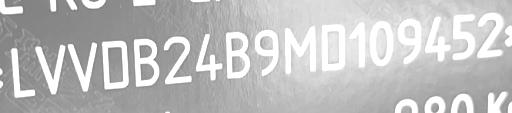letter: (281, 22, 321, 75), (36, 39, 68, 98), (66, 37, 100, 92), (100, 37, 132, 92), (318, 20, 350, 73), (162, 31, 194, 84), (222, 28, 252, 83), (132, 33, 162, 88), (6, 45, 36, 100), (474, 10, 506, 61), (251, 24, 281, 77), (194, 29, 224, 82), (448, 10, 478, 61), (396, 15, 426, 66), (421, 14, 451, 63), (370, 17, 396, 68), (346, 18, 370, 71)
